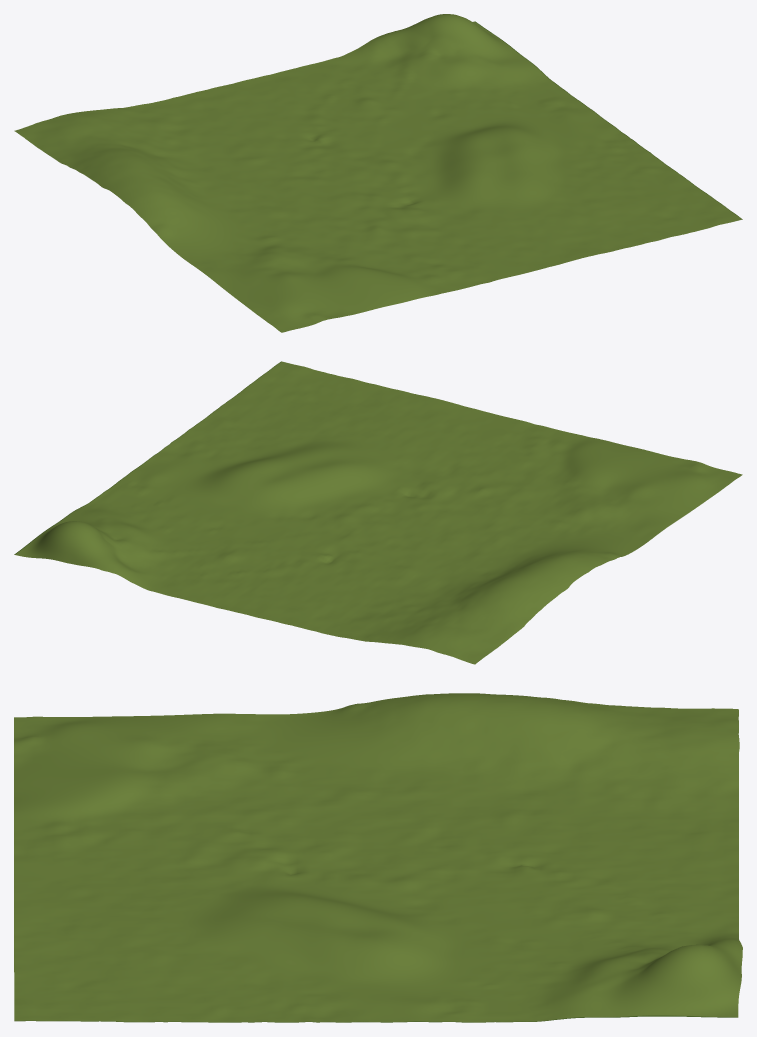
The model's file is Ground.fbx.
3 views of the same model, one above another, from view 1: azimuth 30°, elevation 25°; view 2: azimuth 150°, elevation 25°; view 3: azimuth 270°, elevation 25° (orthographic). The views are drawn at different scales.
Parts seen in each view (by area): view 1: Terrain; view 2: Terrain; view 3: Terrain.
Boxes of the visible parts, x1,y1,x2,y2 form: Terrain: (14,14,742,332); Terrain: (14,361,742,664); Terrain: (14,693,742,1022).
Size of the model in its own units: 339981 by 24069 by 342102.
Materials: 1 (1 with a texture image).
